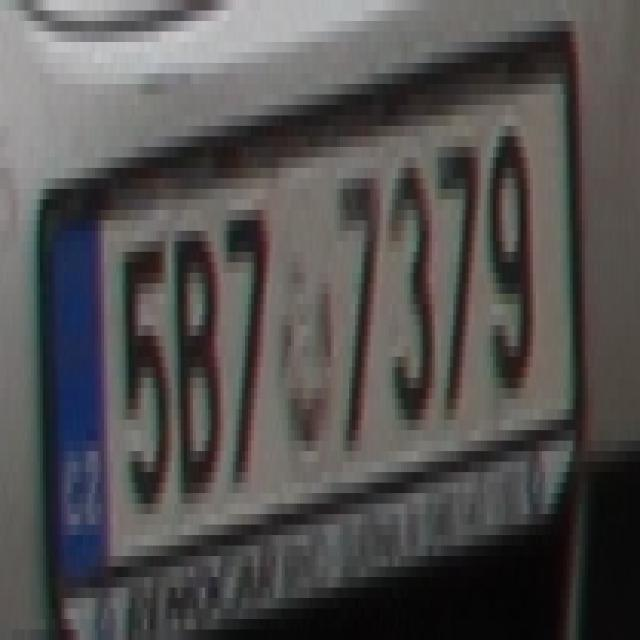3: (386, 157, 435, 420)
5: (120, 230, 172, 514)
7: (224, 210, 272, 493), (438, 136, 484, 410), (340, 157, 380, 441)
9: (481, 126, 539, 420)
B: (168, 210, 220, 514)
